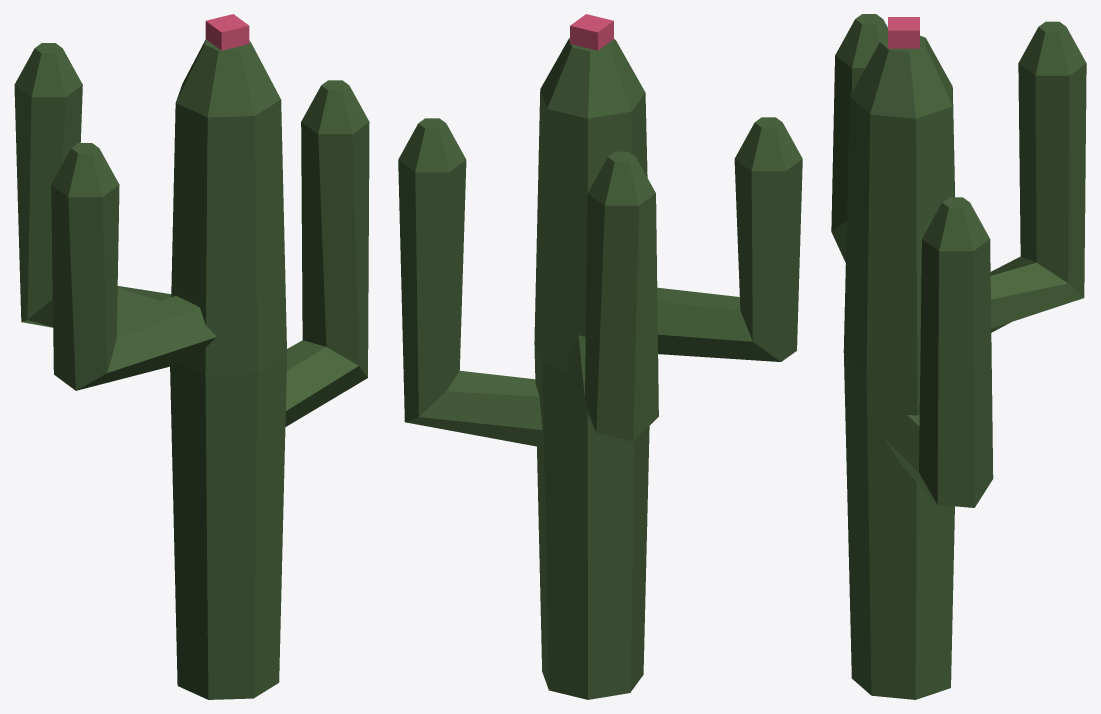
Rendered from SM_Saguaro_B.fbx.
3 views of the same model, side by side, from view 1: azimuth 30°, elevation 25°; view 2: azimuth 150°, elevation 25°; view 3: azimuth 270°, elevation 25° (orthographic).
Parts seen in each view (by area): view 1: Saguaro_B; view 2: Saguaro_B; view 3: Saguaro_B.
Part boxes in pixels (bbox=[...]): Saguaro_B: bbox=[14, 14, 369, 699]; Saguaro_B: bbox=[398, 14, 802, 699]; Saguaro_B: bbox=[831, 14, 1086, 699].
Bounding box in the file's own units: 198 × 127 × 360.
